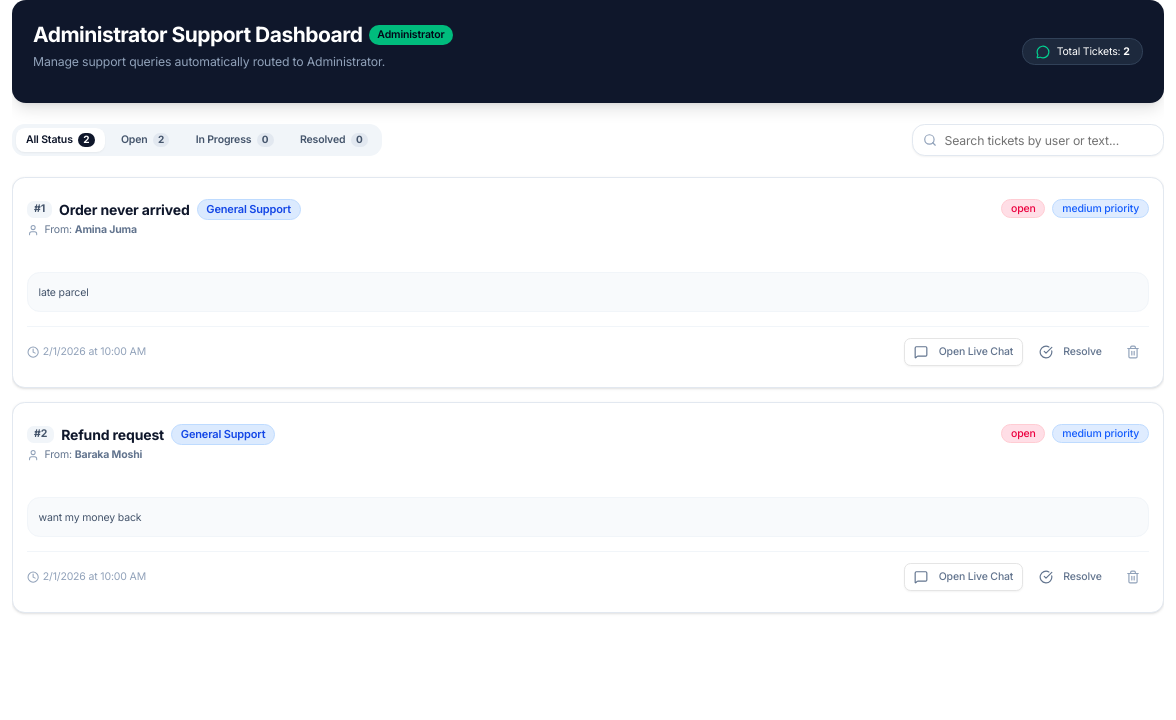
Scenario: SupportTicketsTab search › filters by description text
Type "parcel" into the field with placeholder "Search tickets by user or text..." at point(1038, 140), box [912,124,1164,156]
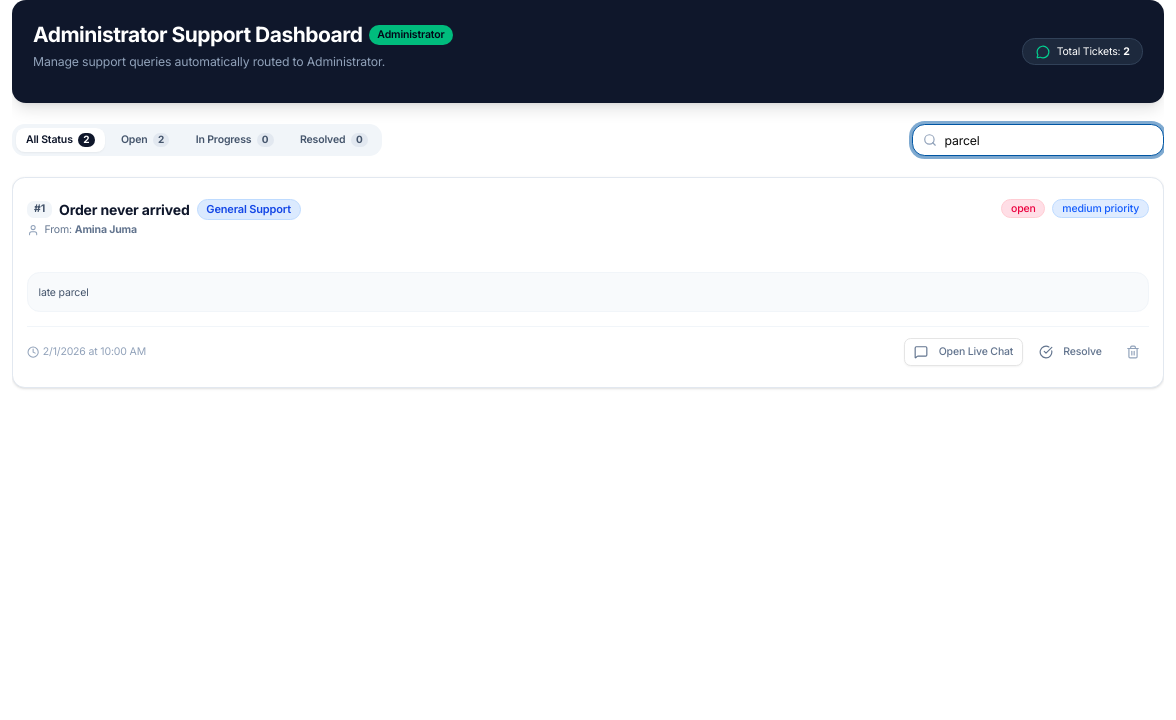
Expected: the text "Order never arrived" is shown, [59,199,190,220]
Expected: the text "Refund request" is gone
